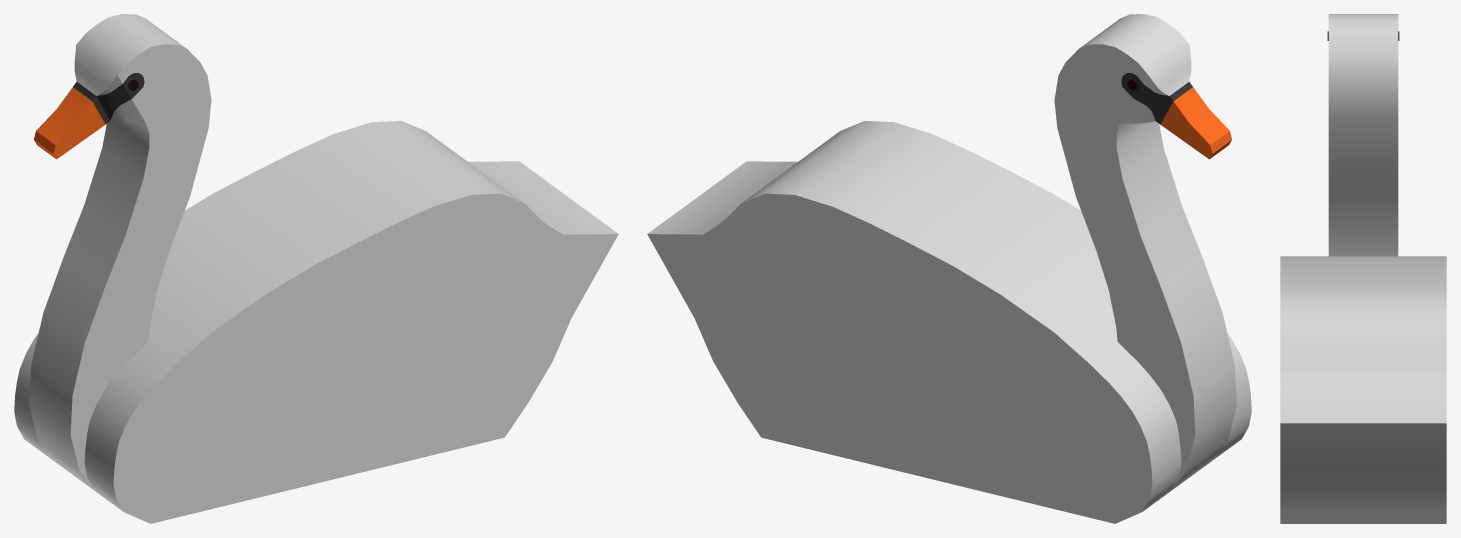
File: Swan.gltf
The picture shows the model from 3 angles, left to right: view 1: azimuth 30°, elevation 25°; view 2: azimuth 150°, elevation 25°; view 3: azimuth 270°, elevation 25°; orthographic projection. The views are drawn at different scales.
Parts seen in each view (by area): view 1: Plane.107; view 2: Plane.107; view 3: Plane.107.
Boxes of the visible parts, bbox=[...] form: Plane.107: bbox=[14, 14, 618, 523]; Plane.107: bbox=[647, 14, 1251, 523]; Plane.107: bbox=[1280, 14, 1446, 523].
Size of the model in its own units: 2.05 by 1.67 by 0.6701.
Materials: 4 (1 with a texture image).
